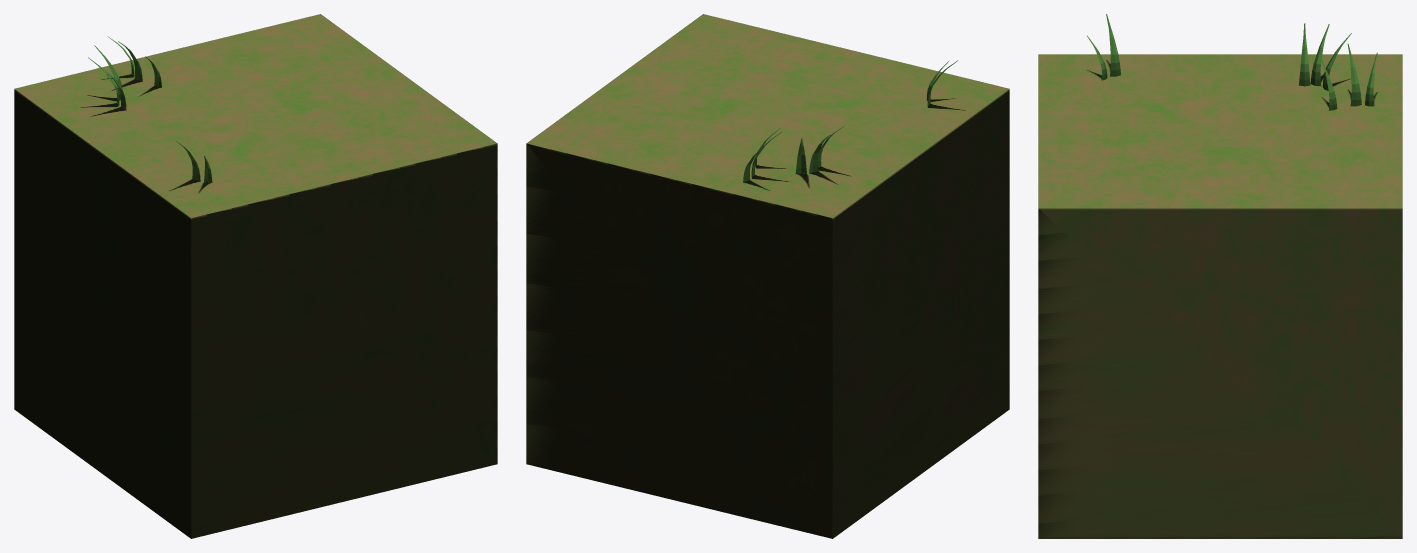
File: tile_glass_base.fbx
3 views of the same model, side by side, from view 1: azimuth 30°, elevation 25°; view 2: azimuth 150°, elevation 25°; view 3: azimuth 270°, elevation 25° (orthographic). The views are drawn at different scales.
Visible parts, largest first — view 1: Cube.001; view 2: Cube.001; view 3: Cube.001.
Boxes of the visible parts, x1=… form: Cube.001: x1=14, y1=14, x2=497, y2=538; Cube.001: x1=526, y1=14, x2=1009, y2=538; Cube.001: x1=1038, y1=14, x2=1402, y2=538.
Bounding box in the file's own units: 200 × 230 × 200.
